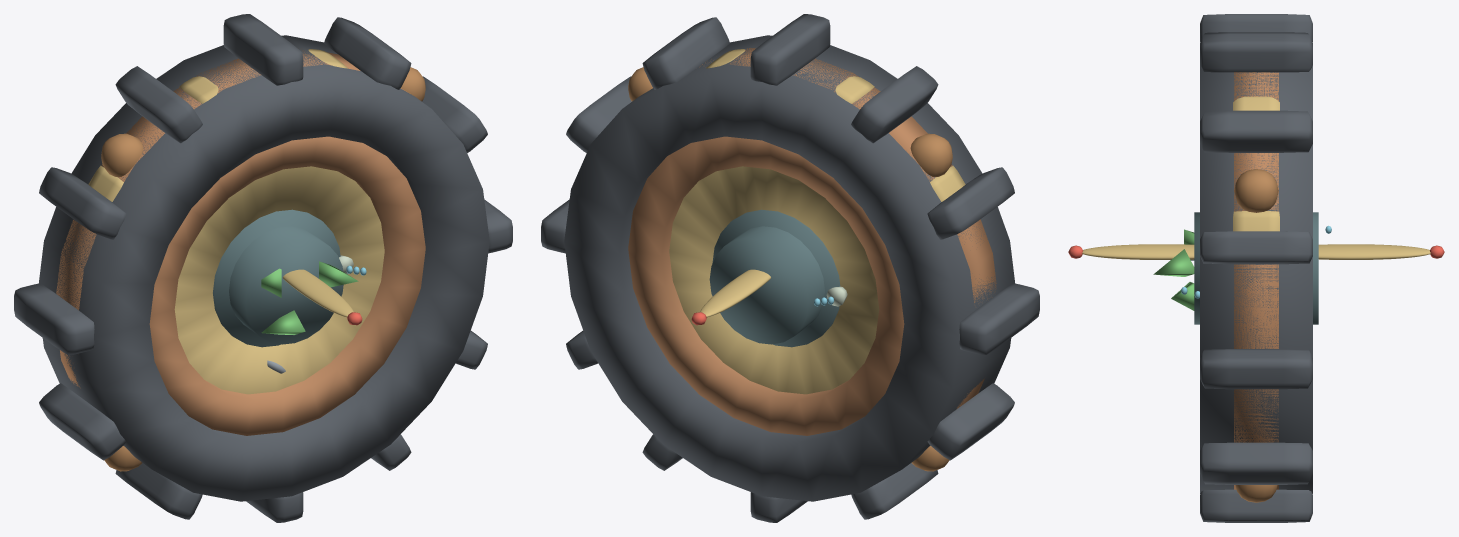
Rendered from granja_movimiento.glb.
3 renders of one model, left to right at view 1: azimuth 30°, elevation 25°; view 2: azimuth 150°, elevation 25°; view 3: azimuth 270°, elevation 25°, orthographic.
Visible parts, largest first — view 1: llanta, rin, rueda engranaje, buje rueda, aro volante, centro engranaje, taco 3, taco 6, taco 4, taco 7, taco 5, taco 2 (+13 smaller); view 2: llanta, rin, rueda engranaje, buje rueda, aro volante, centro engranaje, taco 3, taco 6, taco 4, taco 7, taco 5, taco 2 (+11 smaller); view 3: llanta, aro volante, taco 11, taco 2, taco 3, taco 0, taco 1, taco 10, taco 4, aspa 11, empunadura 0, aspa 1-1 (+5 smaller).
Part boxes in pixels (bbox=[...]): llanta: bbox=[38, 35, 489, 501]; rin: bbox=[149, 136, 425, 435]; rueda engranaje: bbox=[174, 166, 384, 394]; buje rueda: bbox=[229, 226, 343, 344]; aro volante: bbox=[56, 49, 409, 388]; centro engranaje: bbox=[213, 209, 340, 347]; taco 3: bbox=[223, 14, 303, 85]; taco 6: bbox=[14, 283, 94, 354]; taco 4: bbox=[115, 66, 202, 143]; taco 7: bbox=[39, 383, 126, 460]; taco 5: bbox=[39, 167, 126, 239]; taco 2: bbox=[324, 17, 411, 89]; llanta: bbox=[564, 35, 1015, 501]; rin: bbox=[628, 136, 904, 435]; rueda engranaje: bbox=[669, 166, 879, 394]; buje rueda: bbox=[709, 226, 824, 344]; aro volante: bbox=[699, 48, 996, 409]; centro engranaje: bbox=[712, 209, 840, 347]; taco 3: bbox=[750, 14, 830, 85]; taco 6: bbox=[959, 283, 1039, 354]; taco 4: bbox=[851, 66, 938, 143]; taco 7: bbox=[927, 383, 1014, 460]; taco 5: bbox=[927, 167, 1014, 239]; taco 2: bbox=[642, 17, 729, 89]; llanta: bbox=[1200, 65, 1312, 492]; aro volante: bbox=[1234, 72, 1278, 489]; taco 11: bbox=[1200, 442, 1312, 484]; taco 2: bbox=[1200, 110, 1312, 152]; taco 3: bbox=[1200, 32, 1312, 72]; taco 0: bbox=[1200, 349, 1312, 389]; taco 1: bbox=[1200, 231, 1312, 264]; taco 10: bbox=[1200, 489, 1312, 522]; taco 4: bbox=[1200, 14, 1312, 41]; aspa 11: bbox=[1318, 244, 1430, 259]; empunadura 0: bbox=[1234, 169, 1278, 212]; aspa 1-1: bbox=[1082, 244, 1194, 259].
Bounding box in the file's own units: 2.26 × 2.26 × 1.67.
